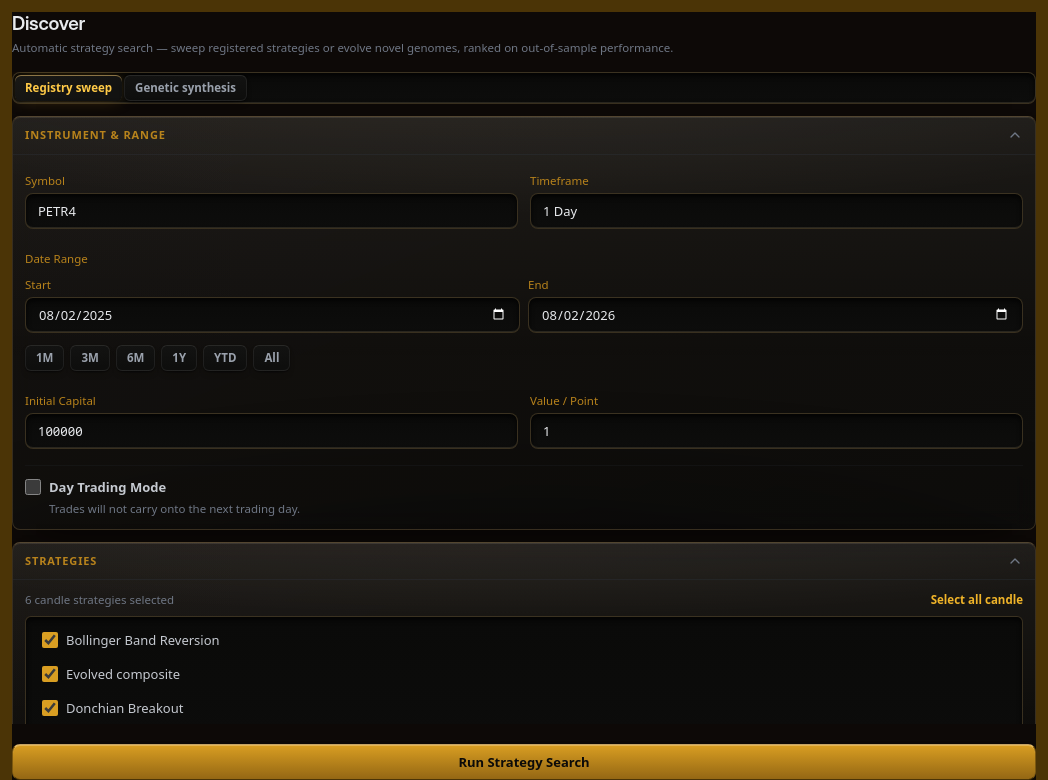
Scenario: DiscoverConfigForm › reveals genetic fields when toggling to Genetic synthesis
What coordinates should you click on to do the following:
click the radio button labelled "Genetic synthesis"
I would click on:
 (186, 88)
Its box is [124,75,247,101].
(page scrolled)
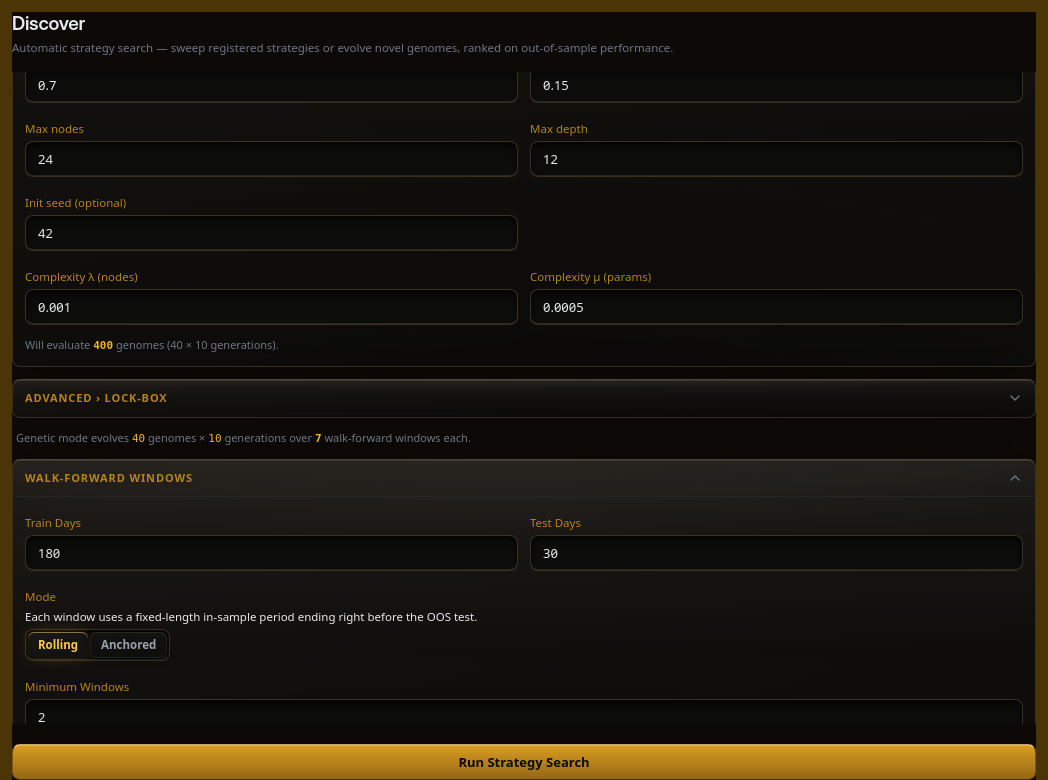
Result: the heading "Advanced › Lock-box" is shown at [25,390,168,406]
